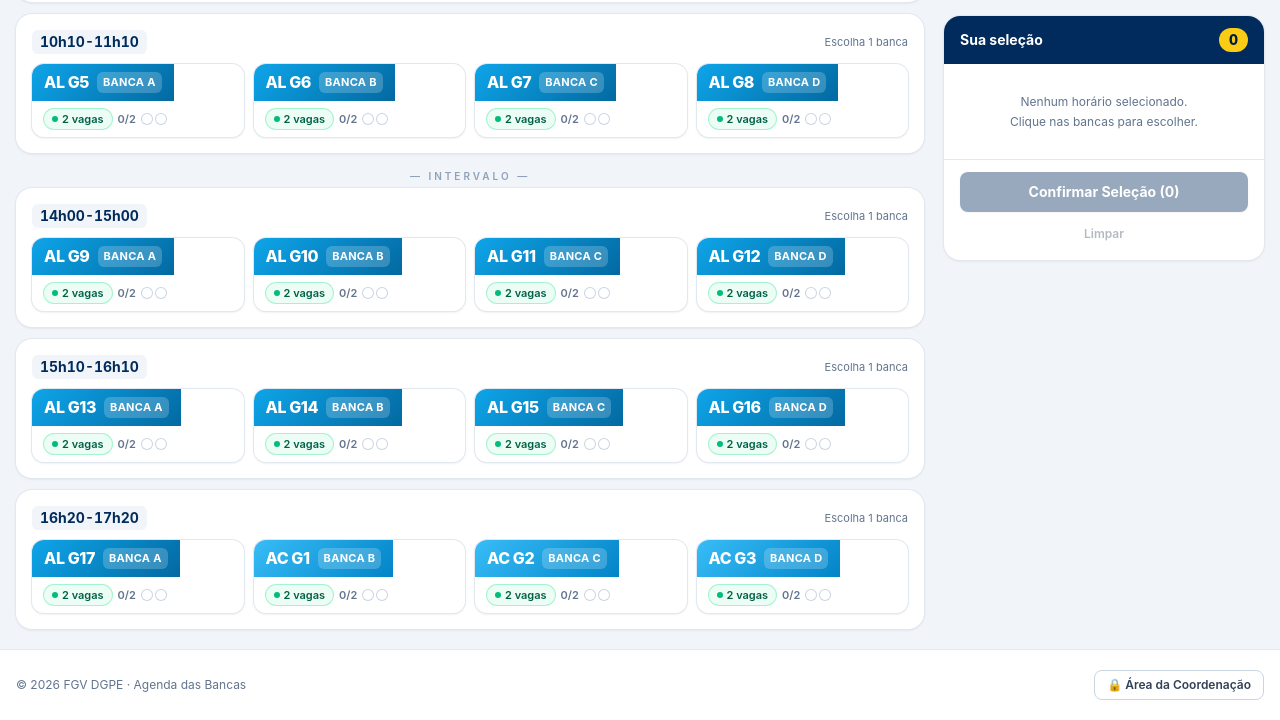
Test case: fluxo do participante (UI, modo local) › Área da Coordenação exige senha e mostra KPIs
The image size is (1280, 720).
(page scrolled)
Click the button "🔒 Área da Coordenação". click: [1179, 685]
box: 1094,670 -> 1264,700
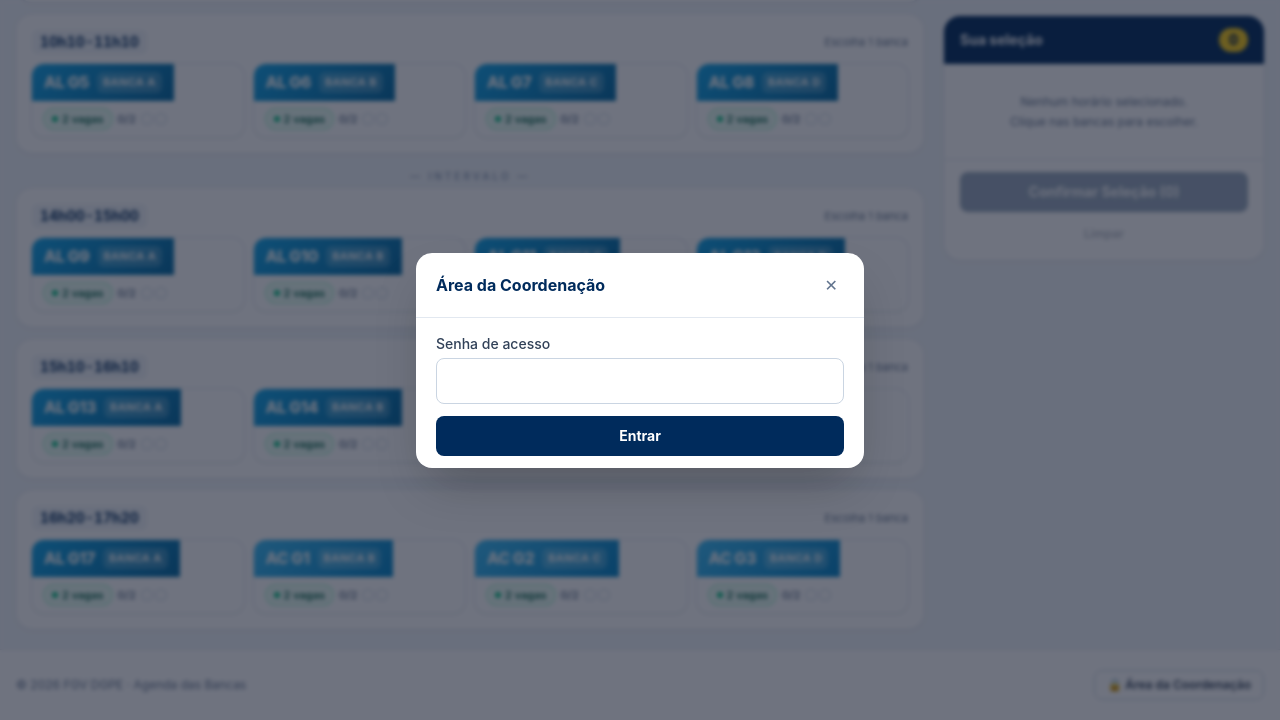
Type "errada" into the password field labelled "Senha de acesso". click: [640, 380]
box: 436,358 -> 844,404
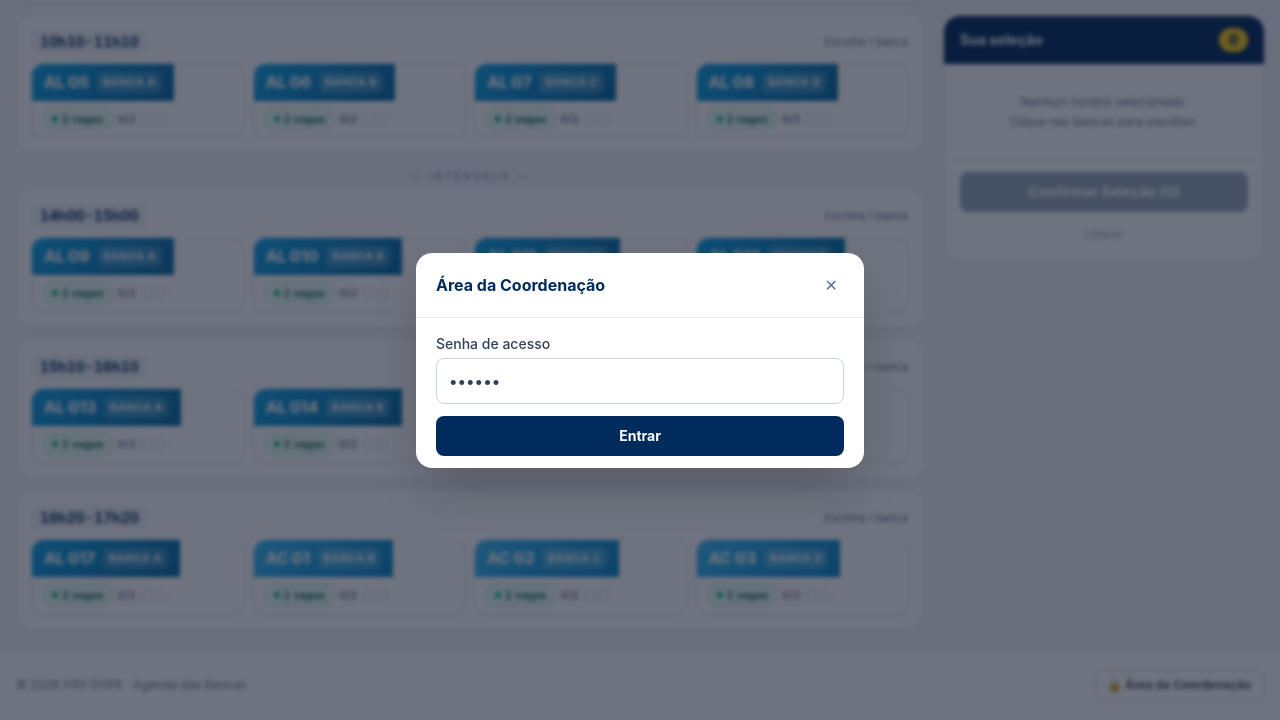
Click the button "Entrar". click: [640, 436]
box: 436,416 -> 844,456
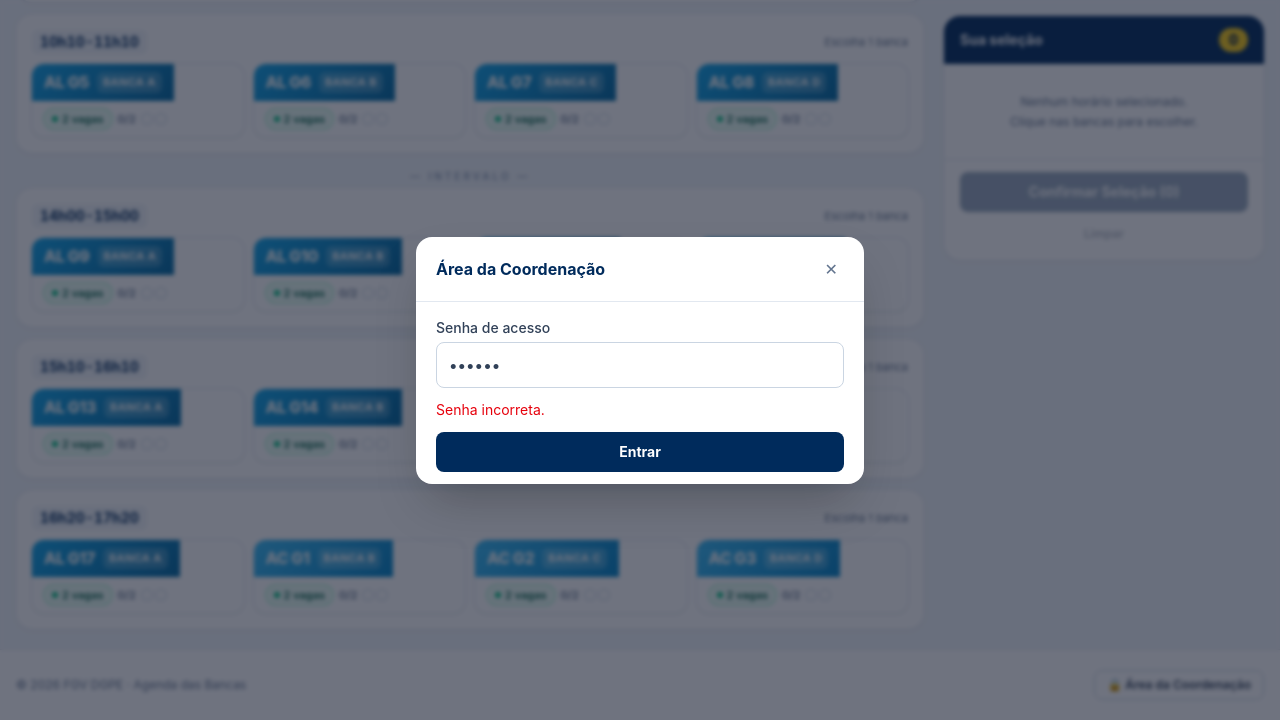
Check: the text "Senha incorreta." is shown, box 436,400 -> 545,418
Type "senha-de-teste-123" into the password field labelled "Senha de acesso". click: [640, 364]
box: 436,342 -> 844,388
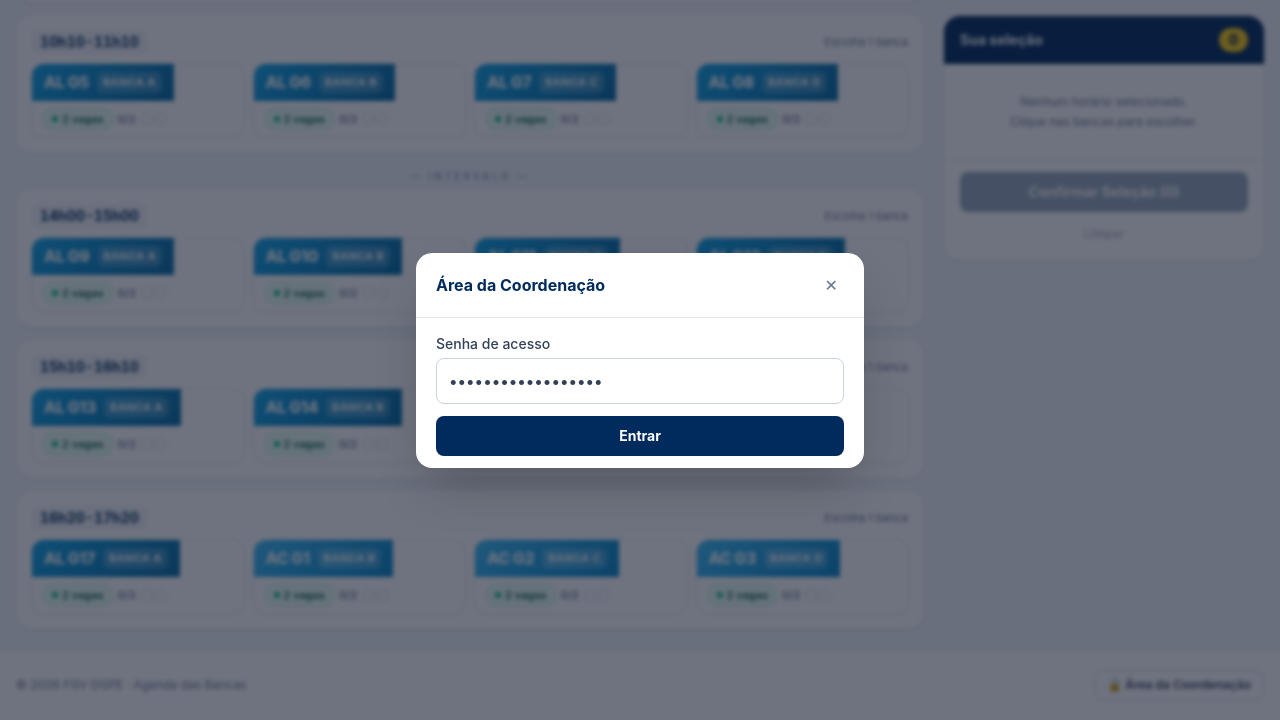
Click the button "Entrar". click: [640, 436]
box: 436,416 -> 844,456
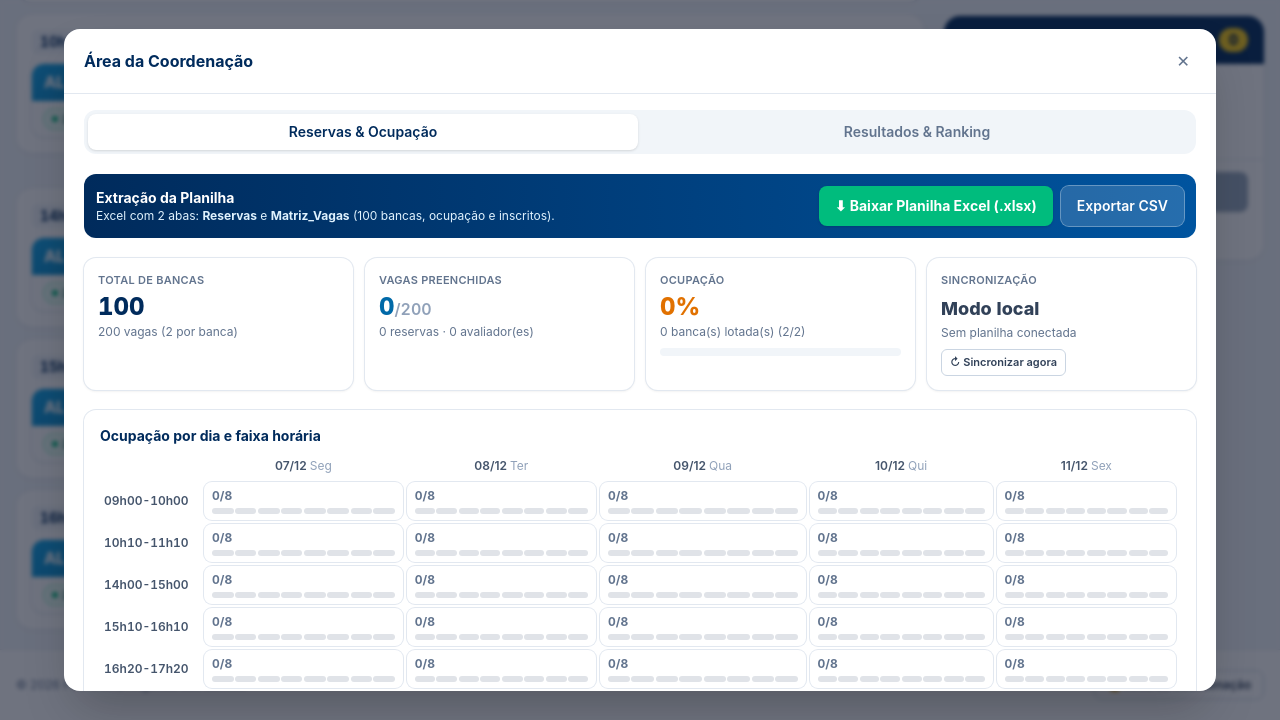
Check: the text "Total de Bancas" is shown, box 98,273 -> 204,287
Check: the button "⬇ Baixar Planilha Excel (.xlsx)" is shown, box 819,186 -> 1053,226
Check: the button "Exportar CSV" is shown, box 1061,186 -> 1184,226
